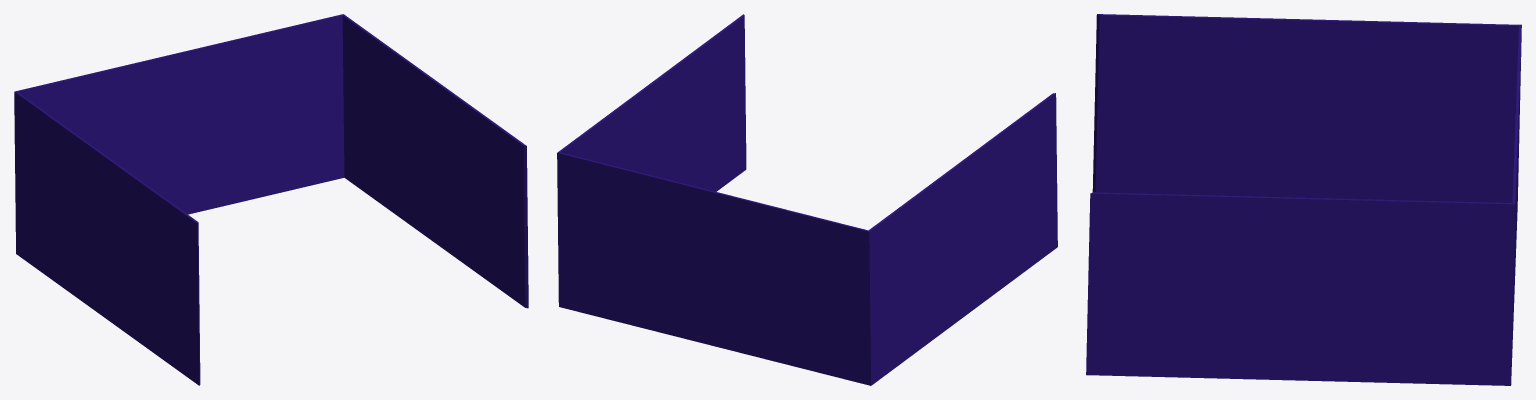
The model's file is Arch.obj.
3 renders of one model, left to right at view 1: azimuth 30°, elevation 25°; view 2: azimuth 150°, elevation 25°; view 3: azimuth 270°, elevation 25°, orthographic. The views are drawn at different scales.
Parts seen in each view (by area): view 1: Arch; view 2: Arch; view 3: Arch.
Part boxes in pixels (x1,y1,x2,y2): Arch: (14, 14, 528, 385); Arch: (557, 14, 1057, 385); Arch: (1086, 14, 1521, 385).
Bounding box in the file's own units: 1.08 × 0.5224 × 1.09.
